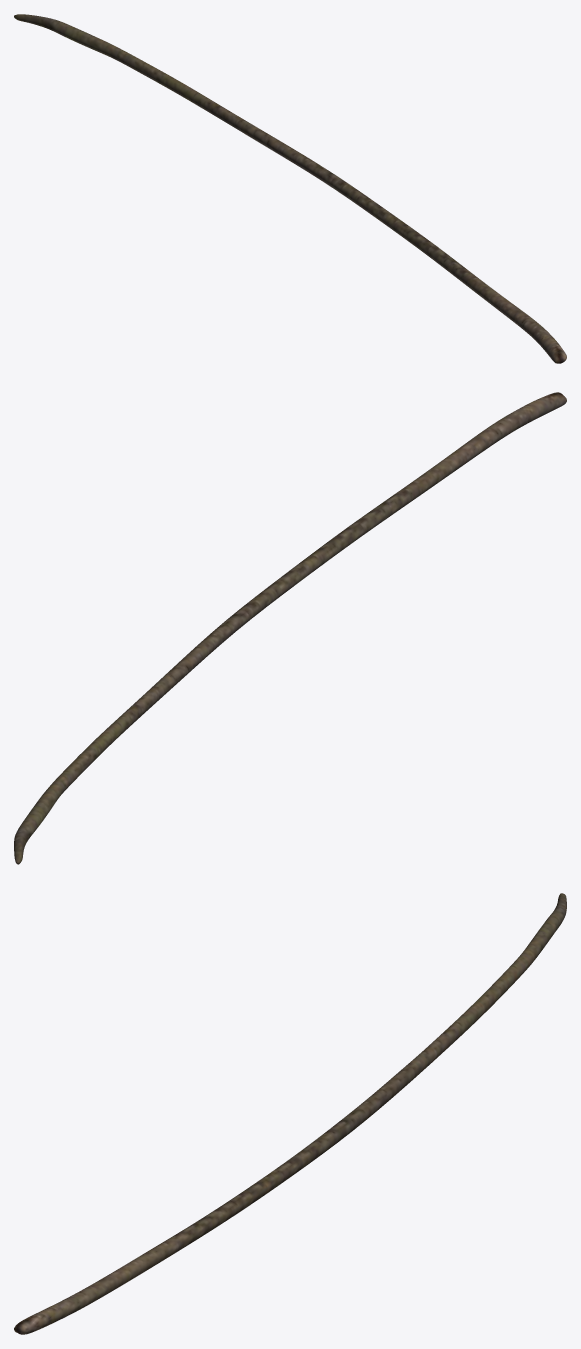
Rendered from stick3.glb.
3 views of the same model, one above another, from view 1: azimuth 30°, elevation 25°; view 2: azimuth 150°, elevation 25°; view 3: azimuth 330°, elevation 25° (orthographic). The views are drawn at different scales.
Visible parts, largest first — view 1: Debris and twigs; view 2: Debris and twigs; view 3: Debris and twigs.
Boxes of the visible parts, x1,y1,x2,y2 form: Debris and twigs: [14, 14, 566, 363]; Debris and twigs: [14, 392, 566, 864]; Debris and twigs: [14, 893, 566, 1334].
Size of the model in its own units: 0.0321 by 0.00926 by 0.3774.
Materials: 1 (1 with a texture image).
